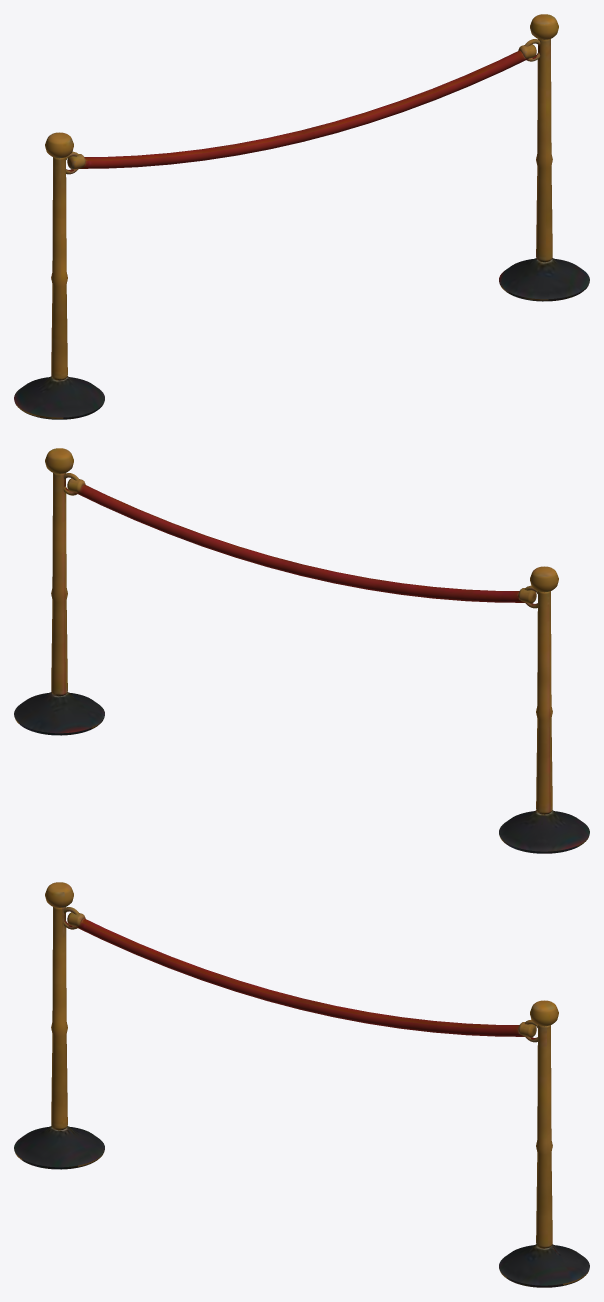
Rendered from queue_rail.glb.
The picture shows the model from 3 angles, top to bottom: view 1: azimuth 30°, elevation 25°; view 2: azimuth 150°, elevation 25°; view 3: azimuth 330°, elevation 25°; orthographic projection.
Visible parts, largest first — view 1: queue_rail; view 2: queue_rail; view 3: queue_rail.
Boxes of the visible parts, left/top/right/bottom form: queue_rail: left=14, top=14, right=589, bottom=419; queue_rail: left=14, top=448, right=589, bottom=853; queue_rail: left=14, top=882, right=589, bottom=1287.
Size of the model in its own units: 2 by 0.905 by 0.2794.
Materials: 1 (1 with a texture image).
